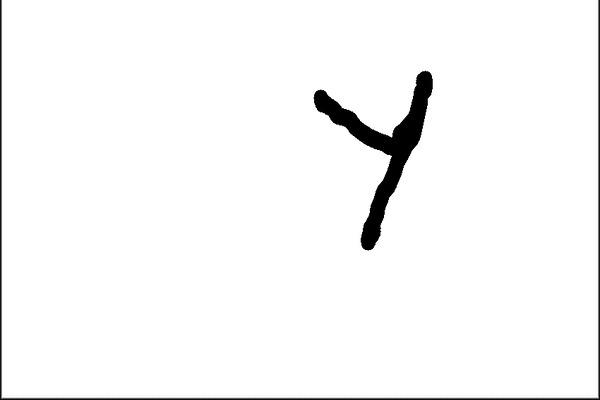Y: (298, 65, 443, 262)
